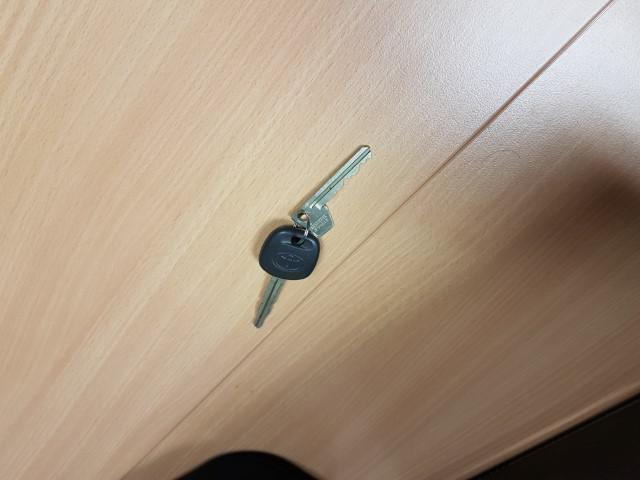key: (253, 227, 320, 328)
